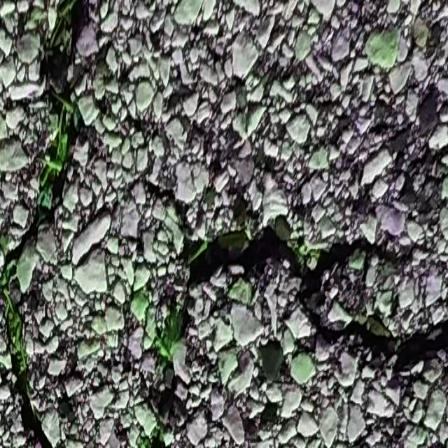crack: (139, 162, 448, 421), (0, 0, 93, 448)
